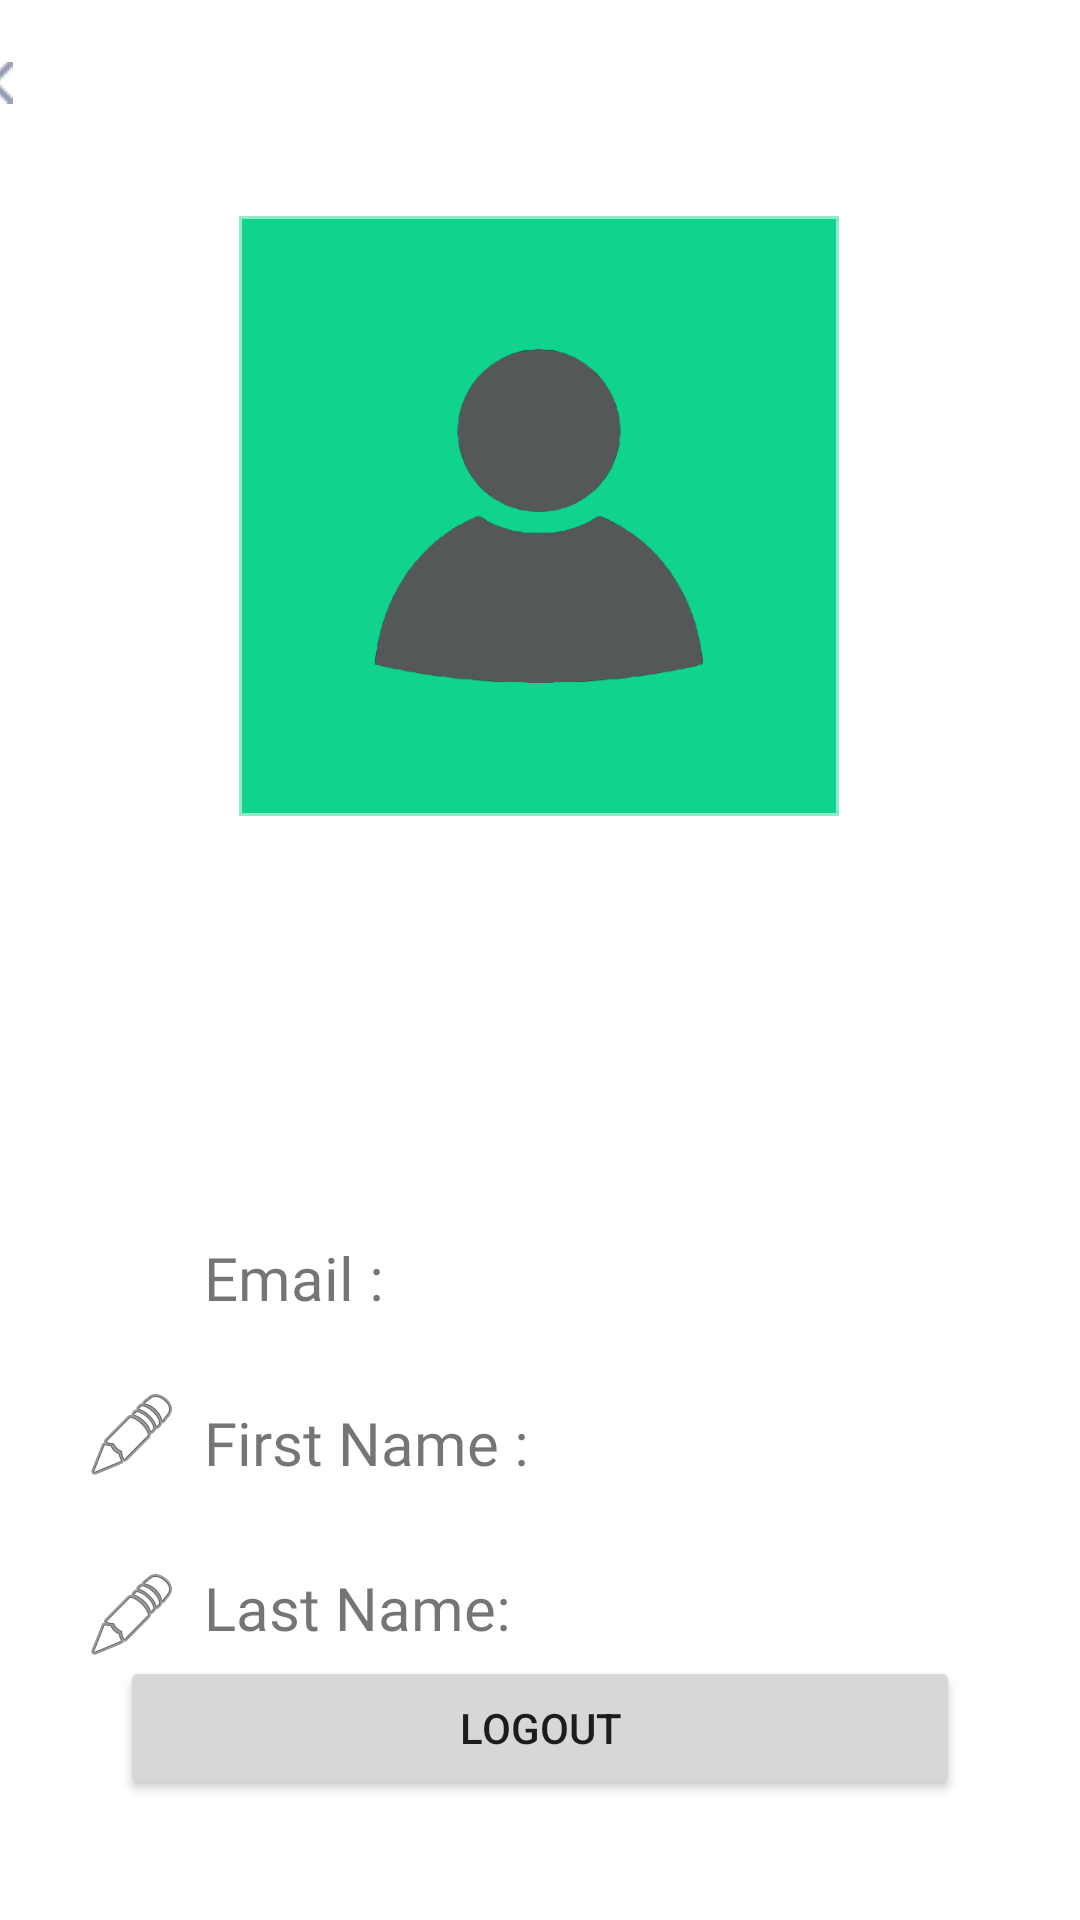

Icons on this 1080px x 1920px Android screen, each with the point to tap as (x=x, y=y):
edit: (x=131, y=1434), (x=131, y=1614)
